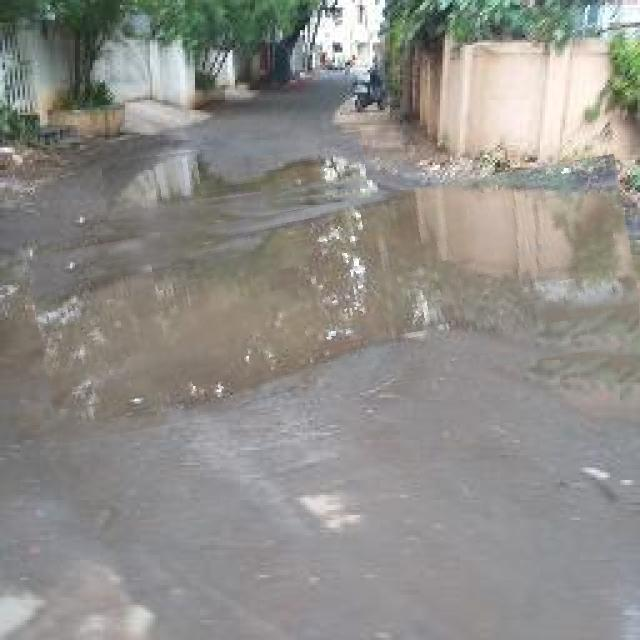puddle: (33, 180, 640, 420), (103, 140, 368, 214)
